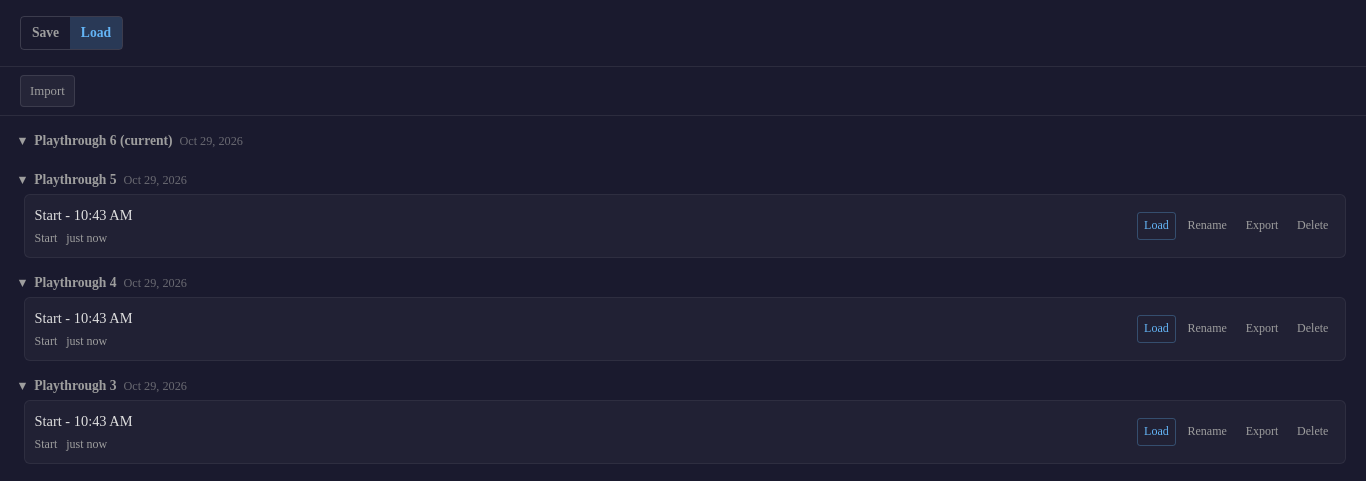
Test: SaveManagerContent › overwrite (Save Here) › "+ New Save" right after a restart saves into the new playthrough
The image size is (1366, 481).
Click the button "Save". click: (45, 33)
box: [21,17,70,49]
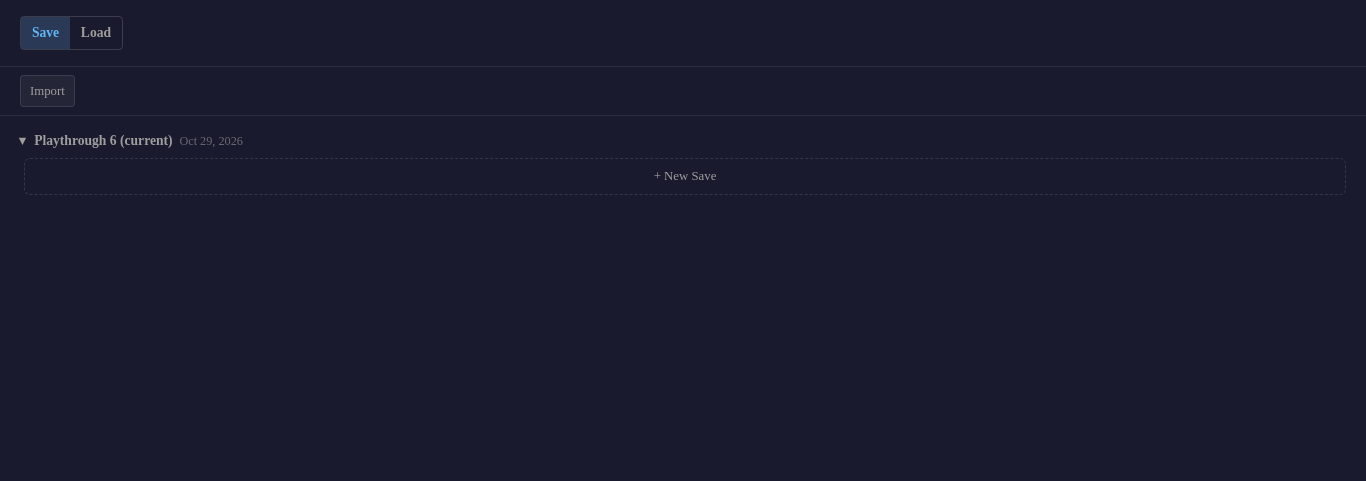
Click the button with class "save-slot-new". click: (685, 177)
box: [24,158,1346,195]
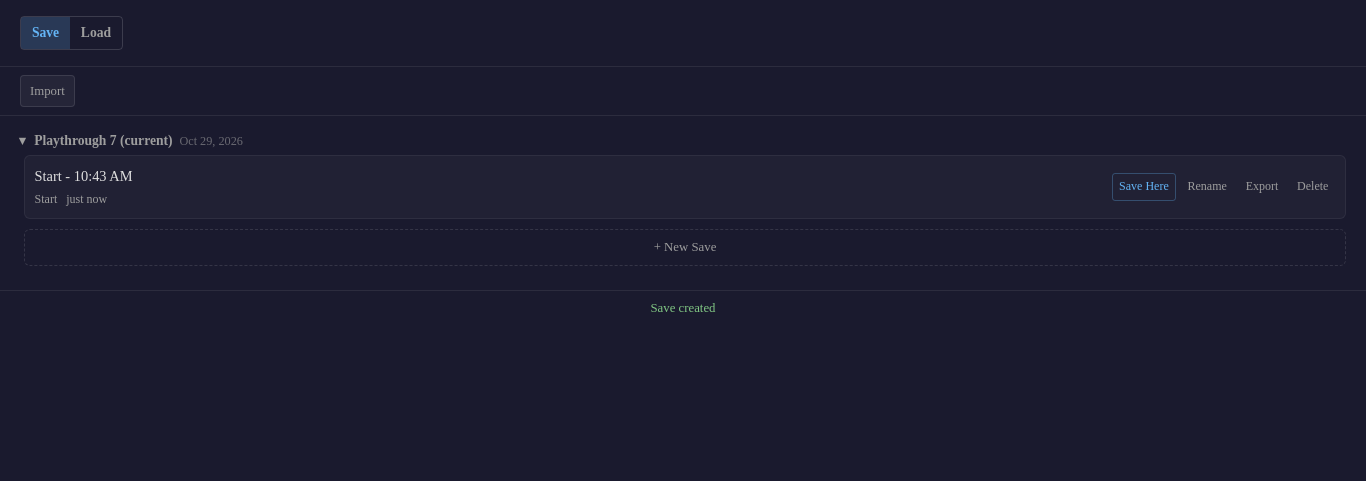
Expected: the text with class "saves-status" reads "Save created", [650,301,716,315]
